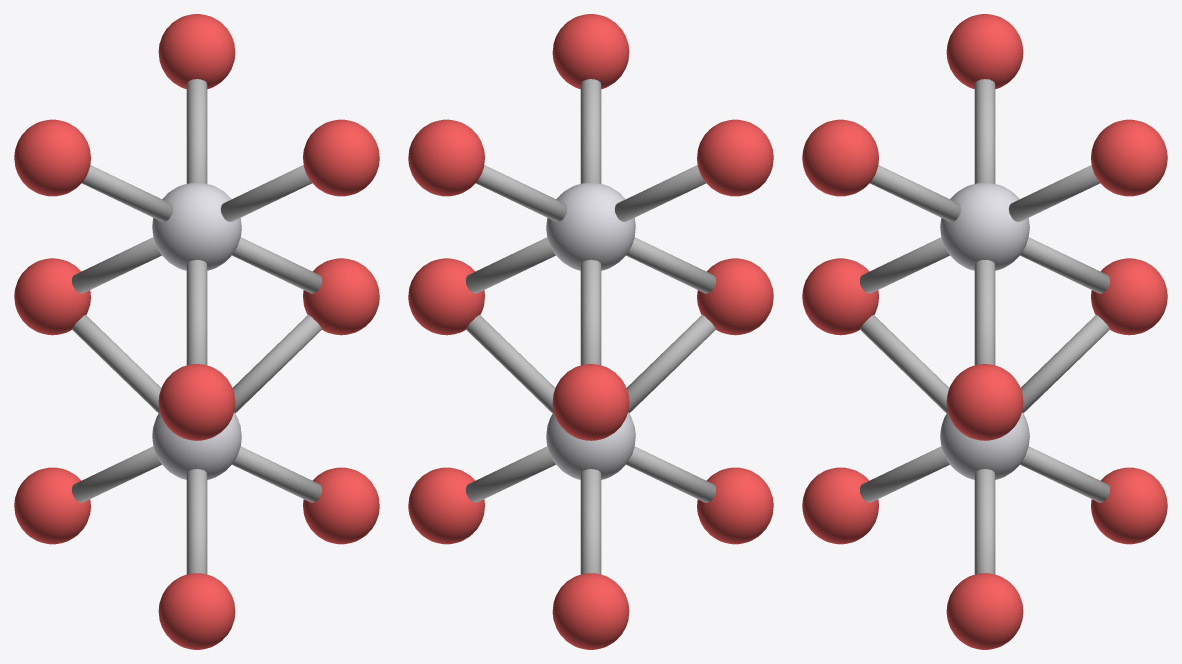
Rendered from Al2O3_Corundum.glb.
3 views of the same model, side by side, from view 1: azimuth 30°, elevation 25°; view 2: azimuth 150°, elevation 25°; view 3: azimuth 270°, elevation 25° (orthographic).
Visible parts, largest first — view 1: Sphere, Sphere.007, Sphere.005, Sphere.009, Sphere.004, Sphere.006, Sphere.010, Sphere.008, Sphere.003, Sphere.002, Sphere.001, Cylinder.006 (+10 smaller); view 2: Sphere, Sphere.006, Sphere.005, Sphere.010, Sphere.003, Sphere.007, Sphere.009, Sphere.008, Sphere.004, Sphere.002, Sphere.001, Cylinder.006 (+10 smaller); view 3: Sphere, Sphere.006, Sphere.007, Sphere.002, Sphere.008, Sphere.005, Sphere.009, Sphere.010, Sphere.003, Sphere.004, Sphere.001, Cylinder.007 (+10 smaller).
Part boxes in pixels (<box>): Sphere: <box>152,182,241,270</box>; Sphere.007: <box>303,119,379,196</box>; Sphere.005: <box>14,119,90,196</box>; Sphere.009: <box>158,573,235,649</box>; Sphere.004: <box>158,364,235,440</box>; Sphere.006: <box>158,14,235,89</box>; Sphere.010: <box>14,467,90,544</box>; Sphere.008: <box>303,467,379,544</box>; Sphere.003: <box>14,258,90,335</box>; Sphere.002: <box>303,258,379,335</box>; Sphere.001: <box>152,412,241,479</box>; Cylinder.006: <box>232,315,321,413</box>; Sphere: <box>546,182,635,270</box>; Sphere.006: <box>408,119,484,196</box>; Sphere.005: <box>697,119,773,196</box>; Sphere.010: <box>552,573,629,649</box>; Sphere.003: <box>552,364,629,440</box>; Sphere.007: <box>552,14,629,89</box>; Sphere.009: <box>697,467,773,544</box>; Sphere.008: <box>408,467,484,544</box>; Sphere.004: <box>697,258,773,335</box>; Sphere.002: <box>408,258,484,335</box>; Sphere.001: <box>546,412,635,479</box>; Cylinder.006: <box>466,315,555,413</box>; Sphere: <box>940,182,1029,270</box>; Sphere.006: <box>1091,119,1167,196</box>; Sphere.007: <box>802,119,878,196</box>; Sphere.002: <box>946,364,1023,440</box>; Sphere.008: <box>946,573,1023,649</box>; Sphere.005: <box>946,14,1023,88</box>; Sphere.009: <box>802,467,878,544</box>; Sphere.010: <box>1091,467,1167,544</box>; Sphere.003: <box>1091,258,1167,335</box>; Sphere.004: <box>802,258,878,335</box>; Sphere.001: <box>940,412,1029,479</box>; Cylinder.007: <box>1020,315,1109,413</box>.
Bounding box in the file's own units: 3.2 × 4.2 × 2.85.
